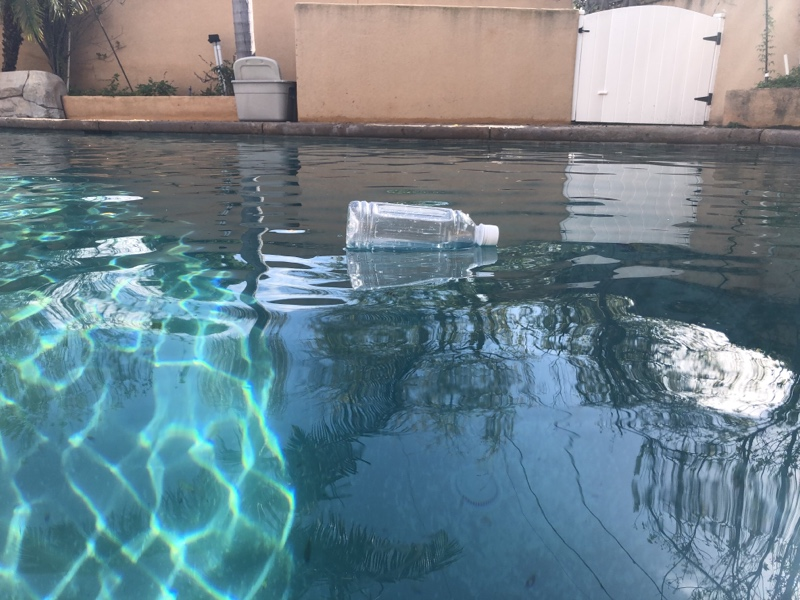Plastic Bottle: (343, 195, 503, 259)
